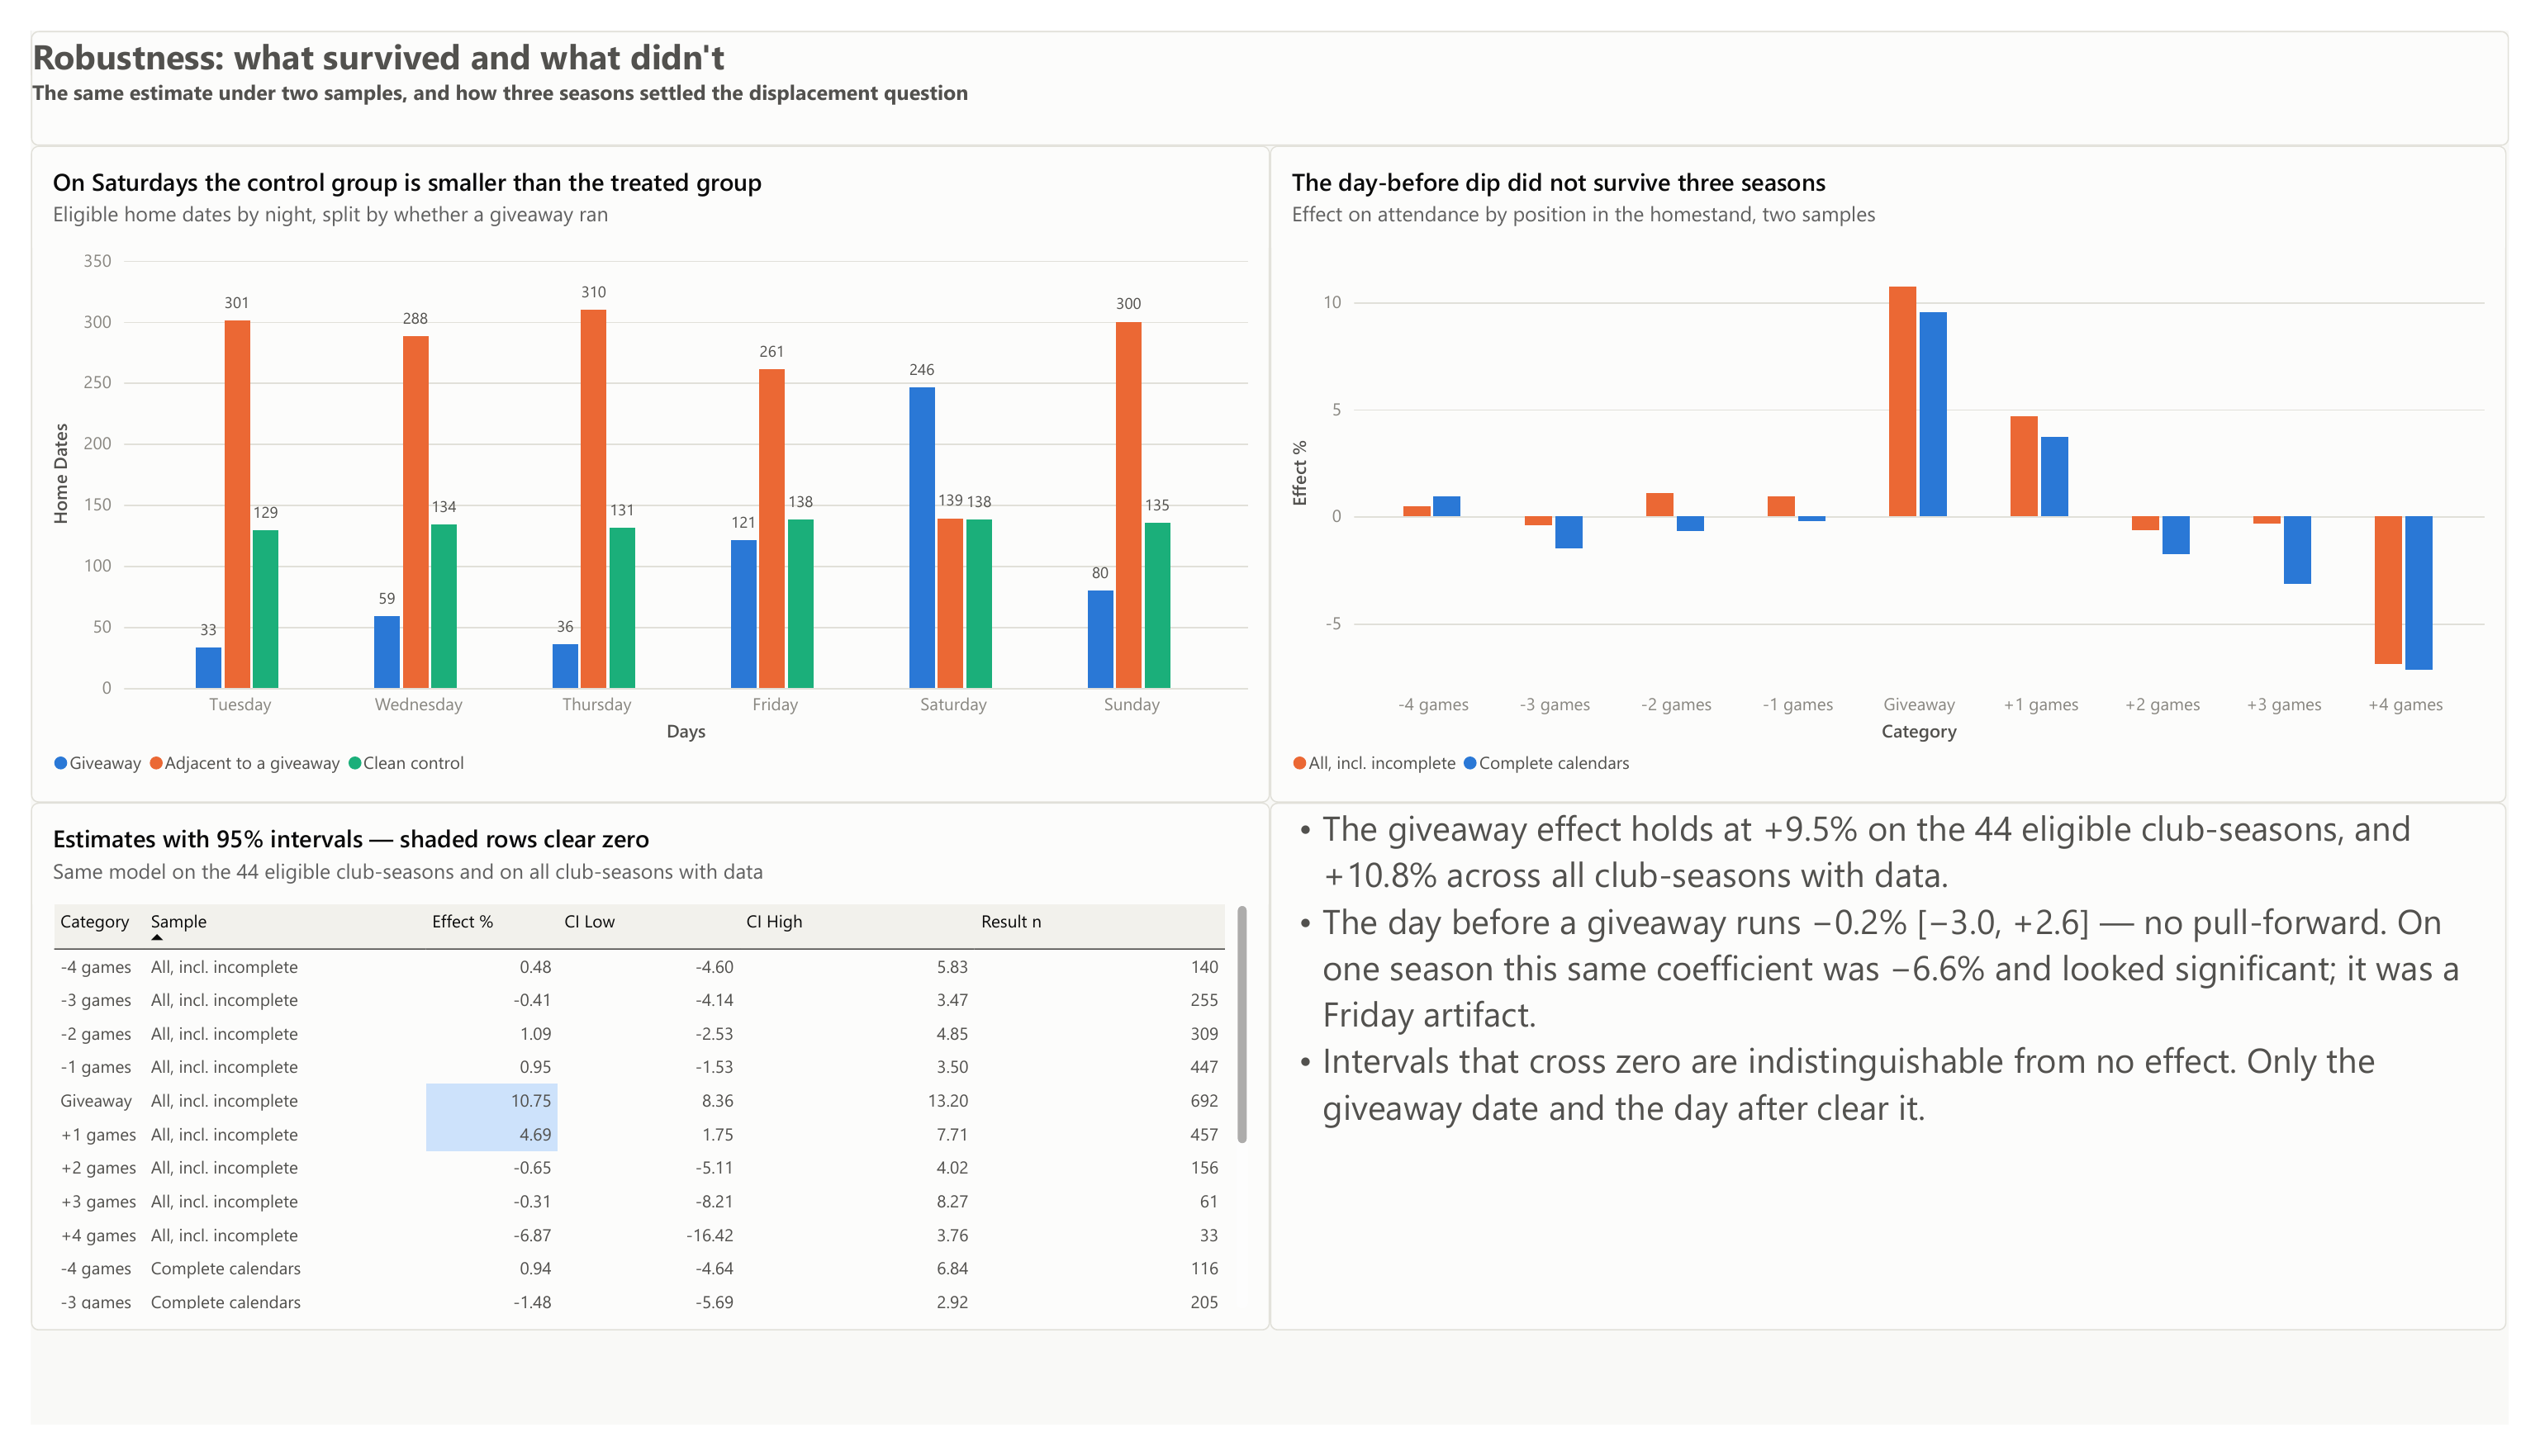

The page's visual inventory and layout, read from the dashboard file:
{"tool":"powerbi","page":{"name":"Robustness","canvas":[1920,1080],"ordinal":3},"visuals":[{"type":"clusteredColumnChart","title":"The day-before dip did not survive three seasons","fields":{"Category":["fct_model_result.category"],"Series":["fct_model_result.scope"],"Y":["fct_model_result.Effect %"]},"box":[960,88.9,957.8,508.9],"z":0},{"type":"textbox","box":[960,597.8,957.8,408.9],"z":1000},{"type":"textbox","box":[0,0,1920,88.9],"z":2000},{"type":"clusteredColumnChart","title":"    On Saturdays the control group is smaller than the treated group","fields":{"Category":["dim_date.day_of_week"],"Series":["fct_home_date.control_status"],"Y":["dim_date.Home Dates"]},"box":[0,88.9,960,508.9],"z":3000},{"type":"tableEx","title":"    Estimates with 95% intervals — shaded rows clear zero","fields":{"Values":["fct_model_result.category","fct_model_result.scope","fct_model_result.Effect %","fct_model_result.CI Low","fct_model_result.CI High","fct_model_result.Result n"]},"box":[0,597.8,960,408.9],"z":4000}]}

Visuals, with their boxes on the page's 1920x1080 design canvas (x1, y1, x2, y2). These are canvas units, not pixel positions in the 2540x1456 screenshot, which may show the page scaled, cropped or inside an application window:
"The day-before dip did not survive three seasons" clusteredColumnChart: box=[960, 89, 1918, 598]
textbox: box=[960, 598, 1918, 1007]
textbox: box=[0, 0, 1920, 89]
"    On Saturdays the control group is smaller than the treated group" clusteredColumnChart: box=[0, 89, 960, 598]
"    Estimates with 95% intervals — shaded rows clear zero" tableEx: box=[0, 598, 960, 1007]
